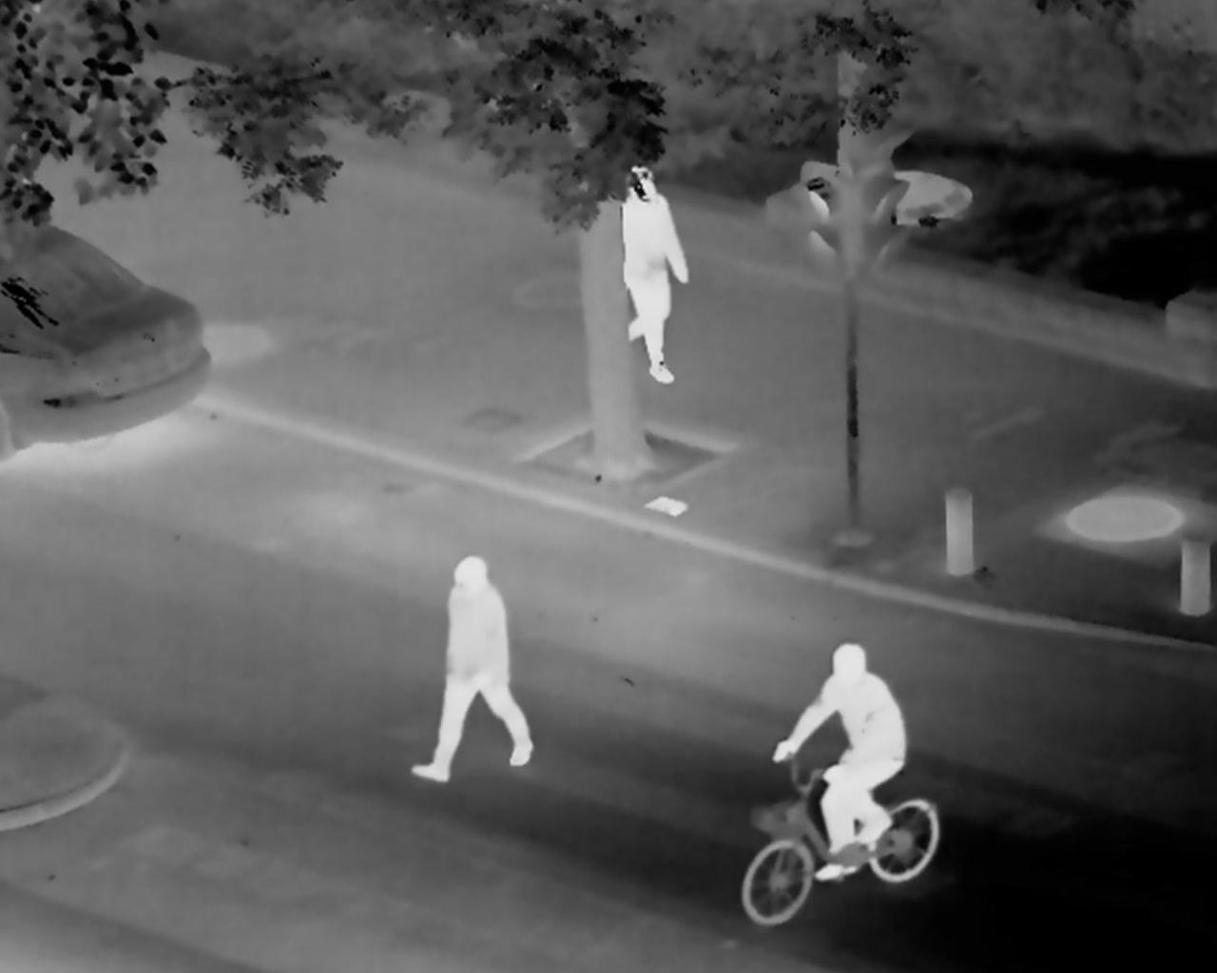person: (769, 619, 904, 910), (415, 549, 529, 797), (614, 168, 694, 386)
